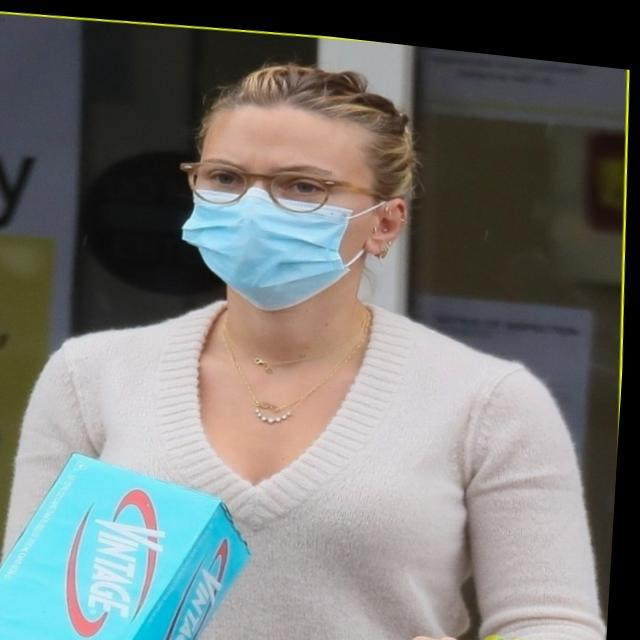Nonhelmet: (175, 59, 422, 315)
